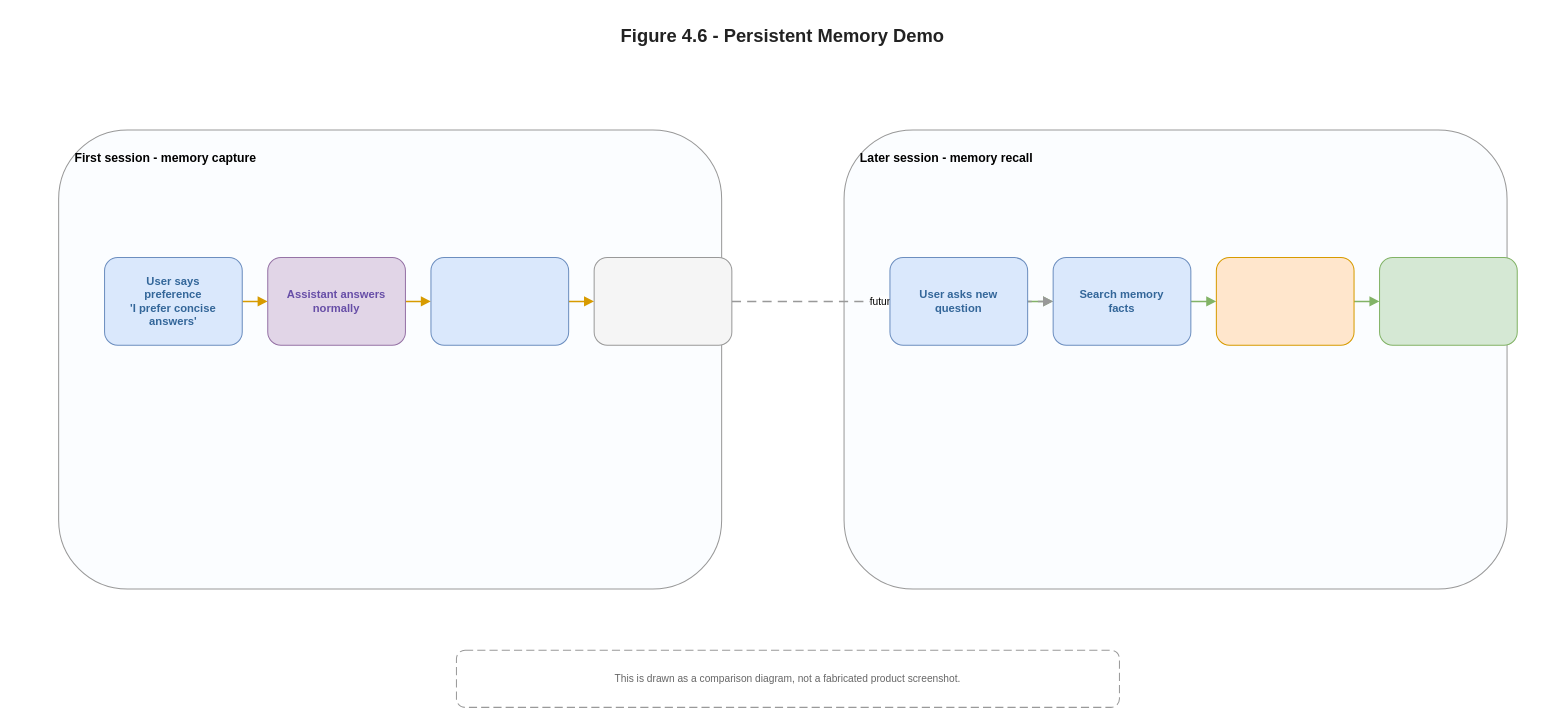
The diagram is 1565 pixels wide and 725 high, and some of its shapes have lost their labels. Each missing label, with the centre of its shape:
Inject memory into prompt: the point at 1284,301
Mem0 extracts fact: the point at 499,301
Personalized answer concise style: the point at 1448,301
Store memory user_id + bot_id: the point at 662,301
